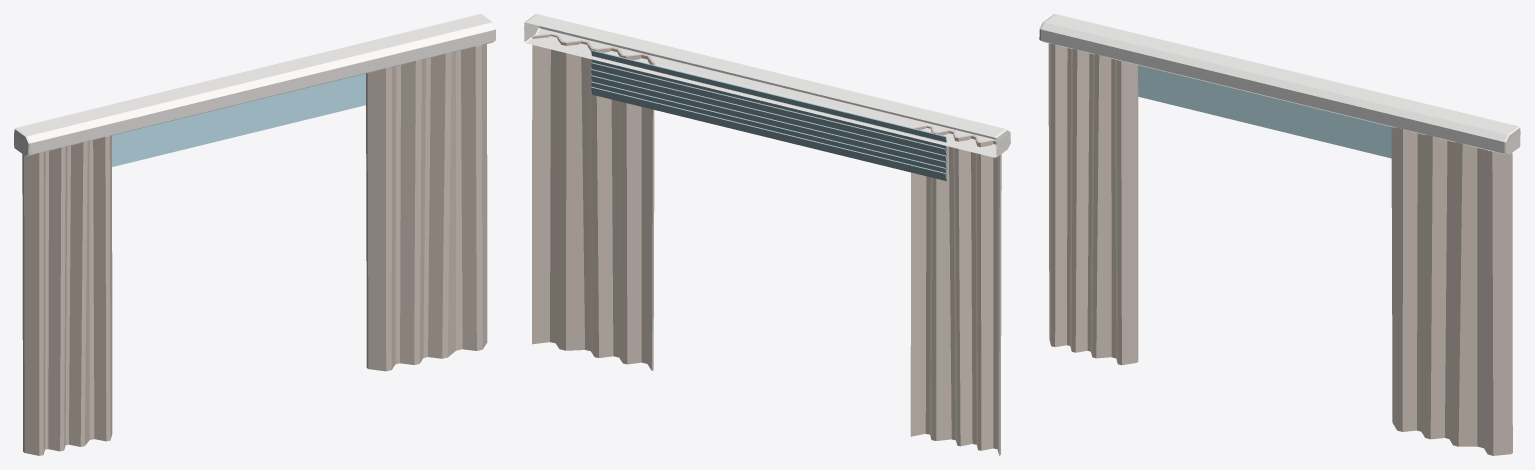
The model's file is Curtains_4.fbx.
3 views of the same model, side by side, from view 1: azimuth 30°, elevation 25°; view 2: azimuth 150°, elevation 25°; view 3: azimuth 330°, elevation 25° (orthographic).
Visible parts, largest first — view 1: Curtains_4; view 2: Curtains_4; view 3: Curtains_4.
Part boxes in pixels (<box>): Curtains_4: <box>14,14,495,455</box>; Curtains_4: <box>524,14,1010,455</box>; Curtains_4: <box>1039,14,1520,455</box>.
Bounding box in the file's own units: 480 × 26.2 × 316.
